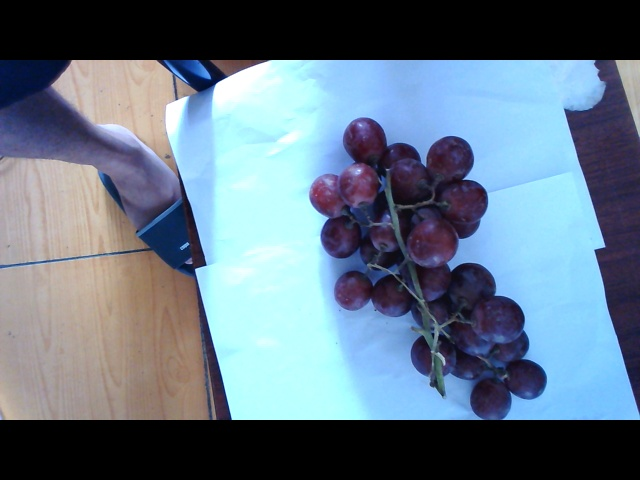grape: (307, 128, 548, 416)
